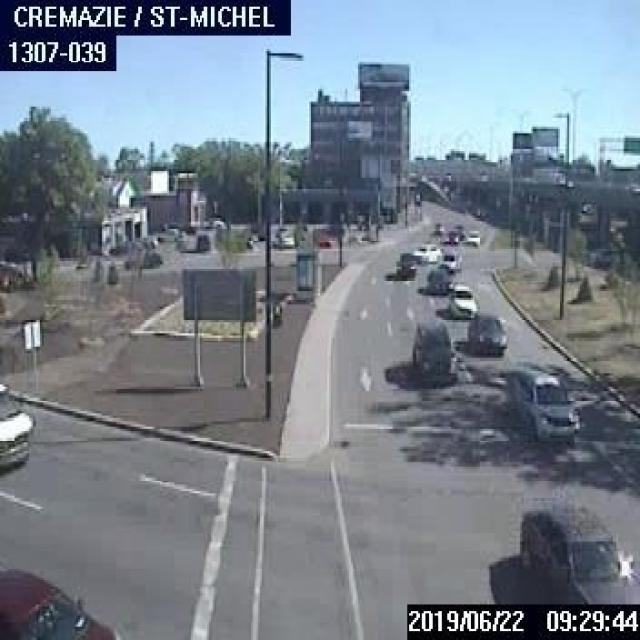vehicle: (518, 500, 638, 602), (0, 562, 118, 638), (509, 367, 578, 440), (0, 380, 35, 467), (409, 318, 453, 376), (465, 312, 506, 355), (446, 281, 476, 317), (427, 264, 451, 293), (439, 244, 461, 272), (412, 242, 439, 262), (393, 254, 415, 278), (154, 227, 184, 241), (272, 229, 293, 247), (313, 227, 331, 246), (444, 227, 458, 243), (452, 220, 464, 237), (466, 228, 478, 244), (432, 218, 442, 232)
